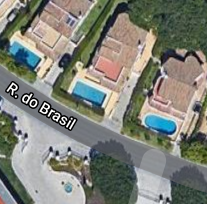pool: (10, 43, 39, 68), (74, 83, 105, 103), (147, 116, 178, 133)
